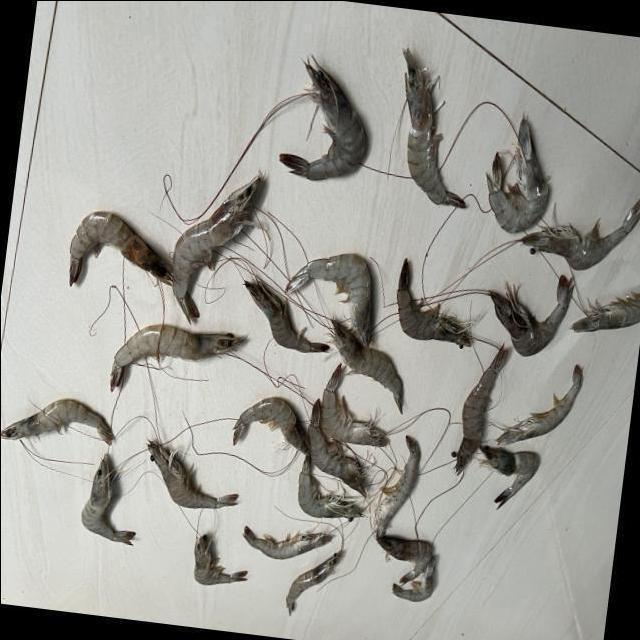shrimp: (172, 171, 261, 321), (279, 59, 364, 180), (402, 47, 465, 208), (109, 325, 243, 392), (522, 200, 640, 270), (285, 254, 372, 347), (68, 212, 172, 286), (486, 114, 548, 233), (453, 345, 508, 475), (496, 366, 583, 446), (490, 276, 574, 357), (331, 320, 402, 414), (397, 260, 471, 349), (244, 281, 329, 353), (147, 443, 237, 509), (308, 400, 366, 499), (321, 364, 388, 448), (0, 400, 112, 446), (80, 455, 135, 546), (373, 437, 420, 538), (233, 398, 309, 456), (298, 456, 363, 522), (480, 446, 539, 510), (286, 551, 342, 617), (243, 527, 331, 560), (193, 535, 247, 586), (376, 537, 433, 585), (572, 294, 640, 332), (393, 559, 436, 603)
